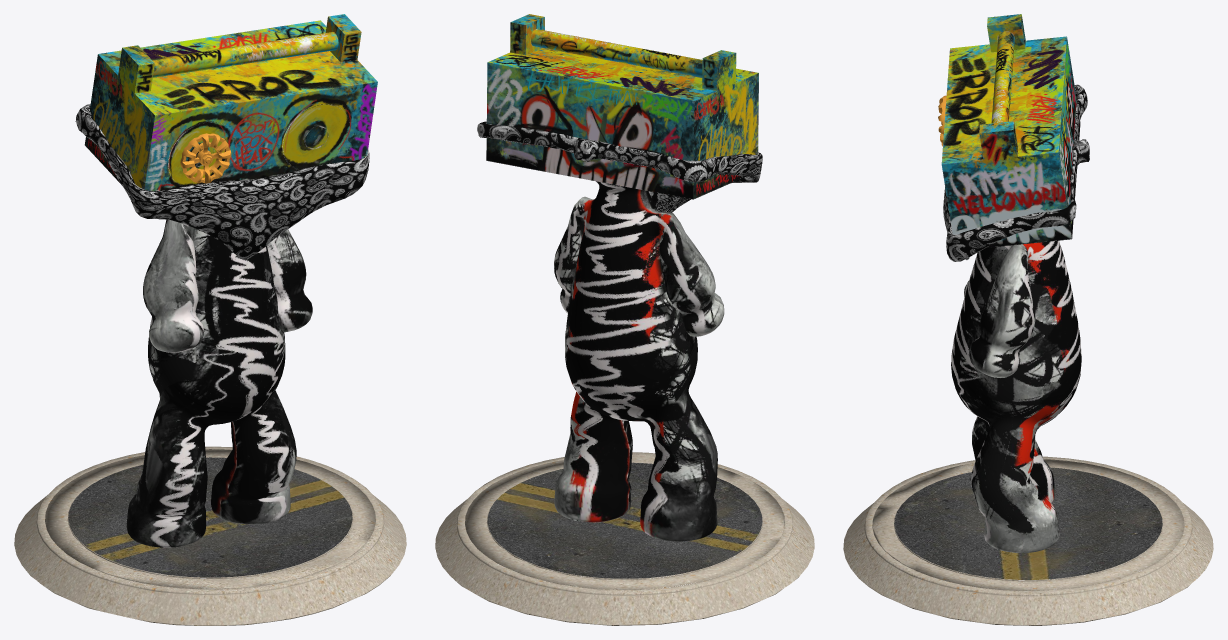
3 renders of one model, left to right at view 1: azimuth 30°, elevation 25°; view 2: azimuth 150°, elevation 25°; view 3: azimuth 270°, elevation 25°, orthographic. The views are drawn at different scales.
Parts seen in each view (by area): view 1: BBody; view 2: BBody; view 3: BBody.
Boxes of the visible parts, x1,y1,x2,y2 form: BBody: (14,14,406,625); BBody: (435,14,814,625); BBody: (843,14,1213,625).
Bounding box in the file's own units: 1.45 × 2.12 × 1.45.
Materials: 6 (6 with a texture image).
